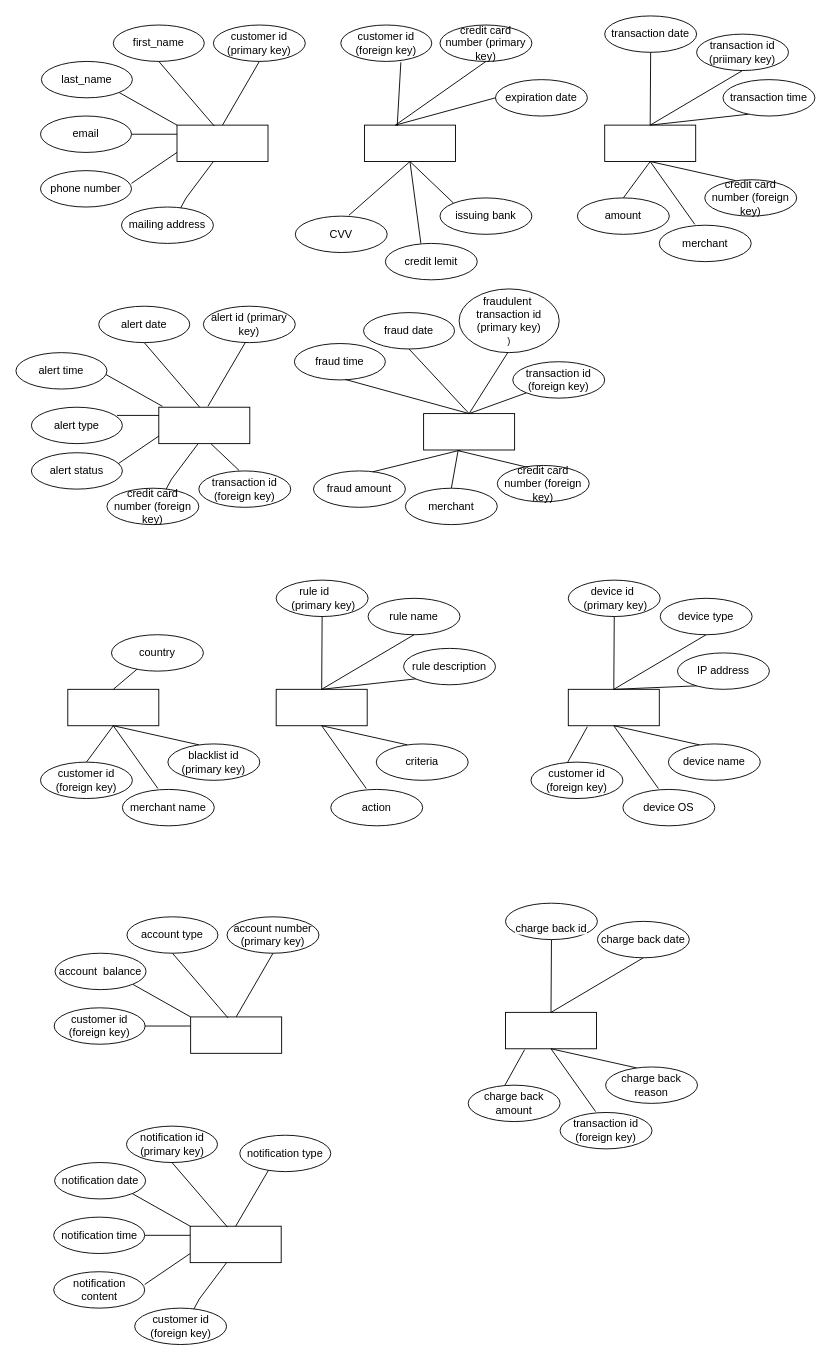
The diagram is 831 pixels wide and 1360 high, and some of its shapes have lost their labels. The centre of each missing label's shape, as x and y in pixels:
account: the point at 236,1034
blacklist: the point at 113,707
charge back: the point at 551,1030
credit card: the point at 409,143
customer: the point at 222,143
device: the point at 613,707
fraud alert: the point at 204,425
fraud rules: the point at 321,707
fraudulent transaction: the point at 469,431
notification: the point at 235,1244
transaction: the point at 650,143
